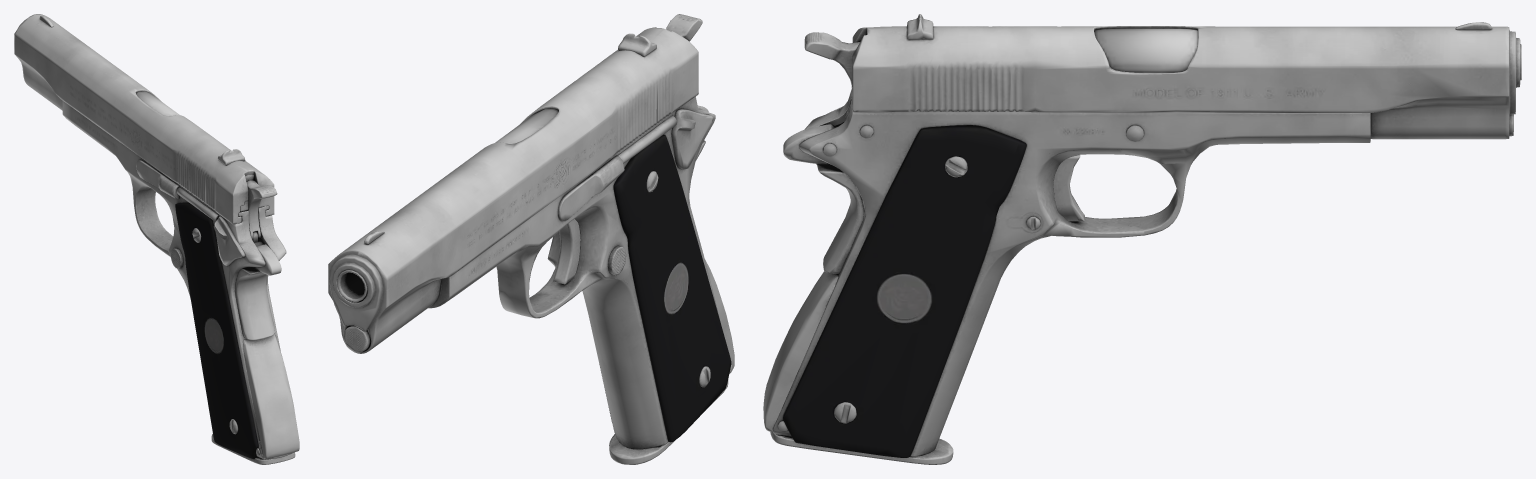
3 views of the same model, side by side, from view 1: azimuth 30°, elevation 25°; view 2: azimuth 150°, elevation 25°; view 3: azimuth 270°, elevation 25° (orthographic). The views are drawn at different scales.
Visible parts, largest first — view 1: body, slide, mag; view 2: body, slide, mag; view 3: body, slide, mag.
Part boxes in pixels (left/top/right/bottom): body: left=62, top=91, right=299, bottom=459; slide: left=14, top=14, right=274, bottom=224; mag: left=211, top=434, right=295, bottom=464; body: left=337, top=14, right=734, bottom=449; slide: left=328, top=27, right=698, bottom=353; mag: left=609, top=380, right=728, bottom=464; body: left=763, top=28, right=1521, bottom=457; slide: left=852, top=14, right=1520, bottom=139; mag: left=770, top=432, right=953, bottom=464.
Bounding box in the file's own units: 0.0252 × 0.1383 × 0.216.
1 material, 1 textured.
